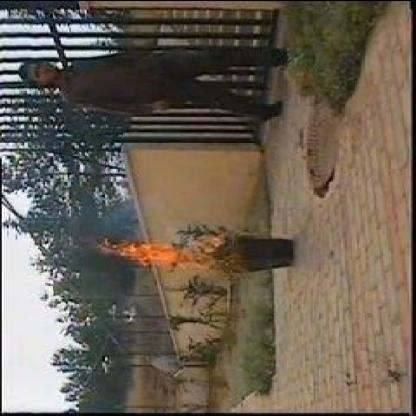foggia-v2-map80-epoch100 - v1 4323: (94, 240, 193, 268)
